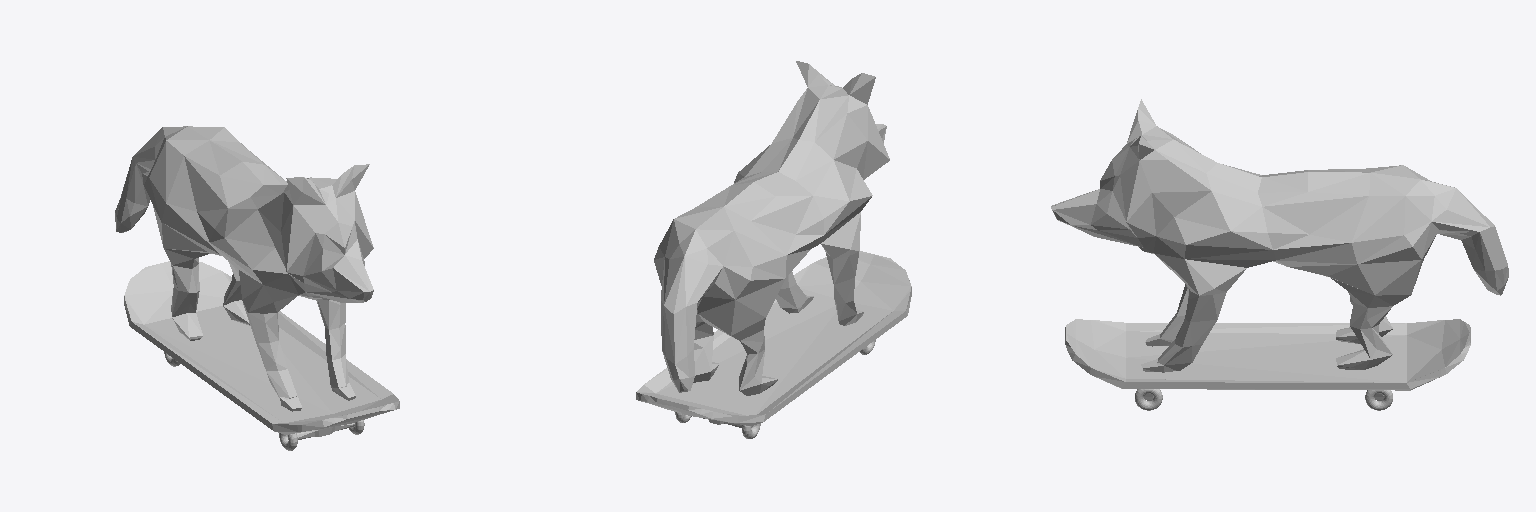
File: Fuchs21.obj
3 views of the same model, side by side, from view 1: azimuth 30°, elevation 25°; view 2: azimuth 150°, elevation 25°; view 3: azimuth 270°, elevation 25° (orthographic).
Size of the model in its own units: 3.58 by 7.73 by 11.65.